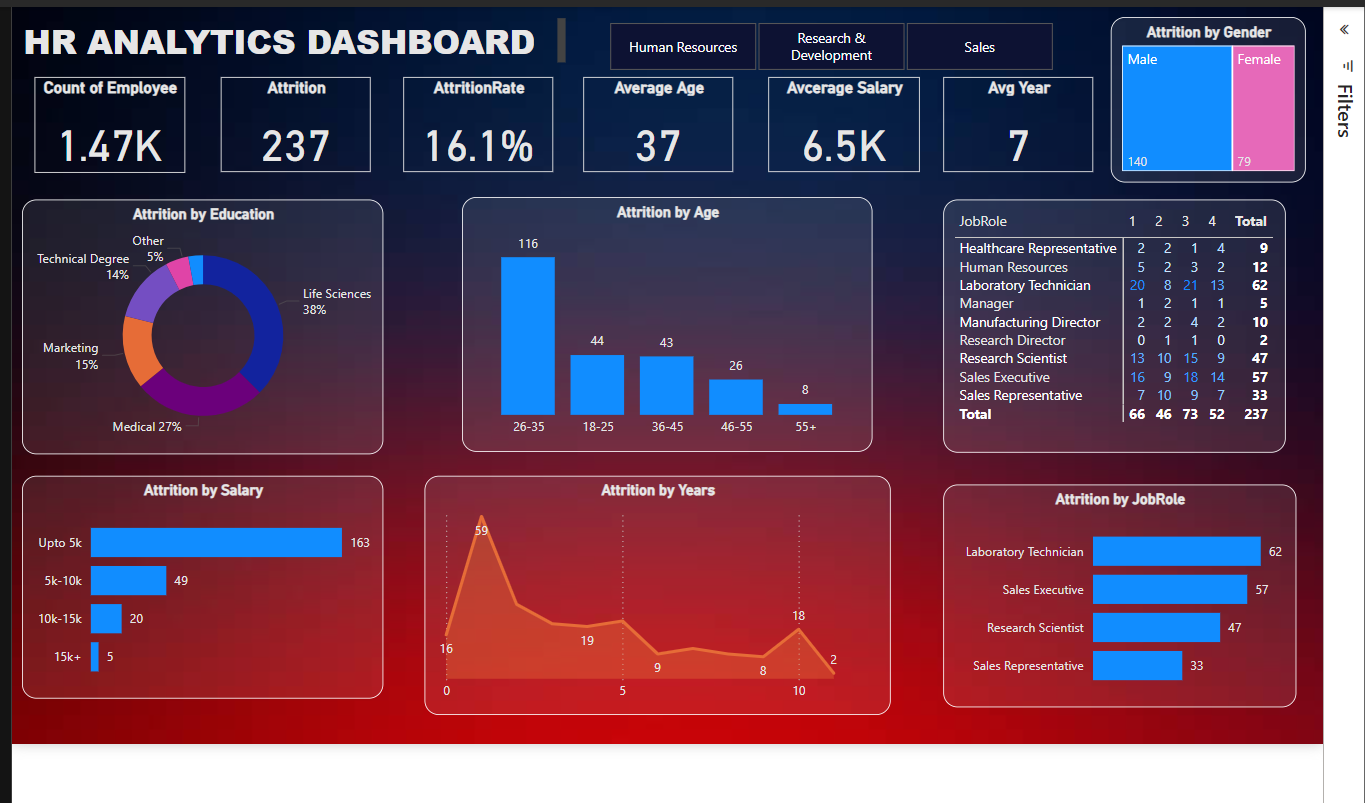

Layout of this report page (visuals, bound fields, positions):
{"tool":"powerbi","page":{"name":"HR_ANA._DASHBOARD","canvas":[1280,720],"ordinal":0},"visuals":[{"type":"cardVisual","title":"Count of Employee","fields":{"Data":["CountNonNull(HR_Analytics.EmpID)"]},"box":[22.4,68.5,146.8,93.3],"z":0},{"type":"cardVisual","title":"Attrition","fields":{"Data":["Sum(HR_Analytics.AttritionCount)"]},"box":[203.5,68.3,146.8,93],"z":1000},{"type":"cardVisual","title":"AttritionRate","fields":{"Data":["HR_Analytics.AtteritionRate"]},"box":[382.2,68.3,146.8,93],"z":2000},{"type":"cardVisual","title":"Average Age","fields":{"Data":["Avg(HR_Analytics.Age)"]},"box":[558,68.3,146.8,93],"z":3000},{"type":"cardVisual","title":"Avcerage Salary","fields":{"Data":["Avg(HR_Analytics.MonthlyIncome)"]},"box":[738.2,68.3,148.2,93],"z":4000},{"type":"cardVisual","title":"Avg Year","fields":{"Data":["Avg(HR_Analytics.YearsAtCompany)"]},"box":[909.7,68.3,146.8,93],"z":5000},{"type":"donutChart","title":"Attrition by Education","fields":{"Category":["HR_Analytics.EducationField"],"Y":["Sum(HR_Analytics.AttritionCount)"]},"box":[10.2,187.5,353.1,248.5],"z":6000},{"type":"columnChart","title":"Attrition by Age","fields":{"Category":["HR_Analytics.AgeGroup"],"Y":["Sum(HR_Analytics.AttritionCount)"]},"box":[438.9,186,401.1,248.5],"z":7000},{"type":"pivotTable","fields":{"Rows":["HR_Analytics.JobRole"],"Columns":["HR_Analytics.JobSatisfaction"],"Values":["Sum(HR_Analytics.AttritionCount)"]},"box":[909.7,187.5,334.2,247],"z":8000},{"type":"clusteredBarChart","title":"Attrition by Salary","fields":{"Category":["HR_Analytics.SalarySlab"],"Y":["Sum(HR_Analytics.AttritionCount)"]},"box":[10.2,457.8,353.1,218],"z":9000},{"type":"clusteredBarChart","title":"Attrition by JobRole","fields":{"Y":["Sum(HR_Analytics.AttritionCount)"],"Category":["HR_Analytics.JobRole"]},"box":[909.7,466.5,344.4,218],"z":10000},{"type":"areaChart","title":"Attrition by Years","fields":{"Category":["HR_Analytics.YearsAtCompany"],"Y":["Sum(HR_Analytics.AttritionCount)"]},"box":[402.5,457.8,454.9,234],"z":11000},{"type":"treemap","title":"Attrition by Gender","fields":{"Group":["HR_Analytics.Gender"],"Values":["Sum(HR_Analytics.AttritionCount)"]},"box":[1072.5,10.2,190.4,161.3],"z":12000},{"type":"slicer","fields":{"Values":["HR_Analytics.Department"]},"box":[558,8.7,482.5,59.6],"z":13000},{"type":"textbox","box":[5.8,5.8,539.1,53.8],"z":14000}]}

Visuals, with their boxes in screenshot pixels (x1, y1, x2, y2):
"Count of Employee" cardVisual: rect(24, 90, 178, 188)
"Attrition" cardVisual: rect(214, 90, 368, 187)
"AttritionRate" cardVisual: rect(402, 90, 556, 187)
"Average Age" cardVisual: rect(587, 90, 741, 187)
"Avcerage Salary" cardVisual: rect(776, 90, 932, 187)
"Avg Year" cardVisual: rect(957, 90, 1111, 187)
"Attrition by Education" donutChart: rect(11, 215, 382, 476)
"Attrition by Age" columnChart: rect(462, 213, 883, 475)
pivotTable - HR_Analytics.JobRole x HR_Analytics.JobSatisfaction: rect(957, 215, 1308, 475)
"Attrition by Salary" clusteredBarChart: rect(11, 499, 382, 728)
"Attrition by JobRole" clusteredBarChart: rect(957, 508, 1319, 738)
"Attrition by Years" areaChart: rect(423, 499, 902, 745)
"Attrition by Gender" treemap: rect(1128, 28, 1328, 198)
slicer - HR_Analytics.Department: rect(587, 27, 1094, 90)
textbox: rect(6, 24, 573, 80)
